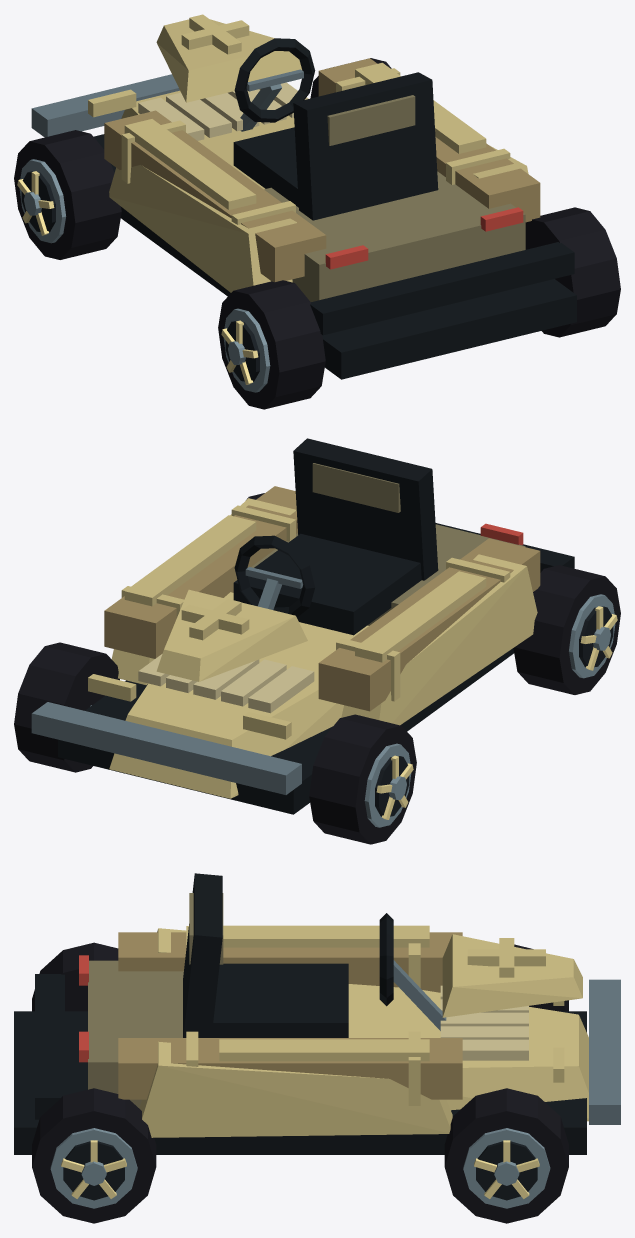
File: kart.glb
3 renders of one model, top to bottom at view 1: azimuth 30°, elevation 25°; view 2: azimuth 150°, elevation 25°; view 3: azimuth 270°, elevation 25°, orthographic.
Parts seen in each view (by area): view 1: chassis, wheel-rear-left, wheel-front-left, wheel-rear-right; view 2: chassis, wheel-front-left, wheel-rear-left, wheel-front-right; view 3: chassis, wheel-front-right, wheel-rear-right, wheel-rear-left.
Boxes of the visible parts, box(x1,y1,x2,y2) form: chassis: box(31, 14, 576, 379); wheel-rear-left: box(218, 280, 325, 409); wheel-front-left: box(14, 130, 121, 259); wheel-rear-right: box(525, 207, 620, 337); chassis: box(31, 438, 574, 814); wheel-front-left: box(309, 714, 416, 844); wheel-rear-left: box(513, 565, 620, 694); wheel-front-right: box(14, 642, 119, 772); chassis: box(14, 873, 620, 1154); wheel-front-right: box(444, 1088, 568, 1223); wheel-rear-right: box(32, 1088, 156, 1223); wheel-rear-left: box(32, 942, 118, 1011).
Bounding box in the file's own units: 2.16 × 1.3 × 3.03.
